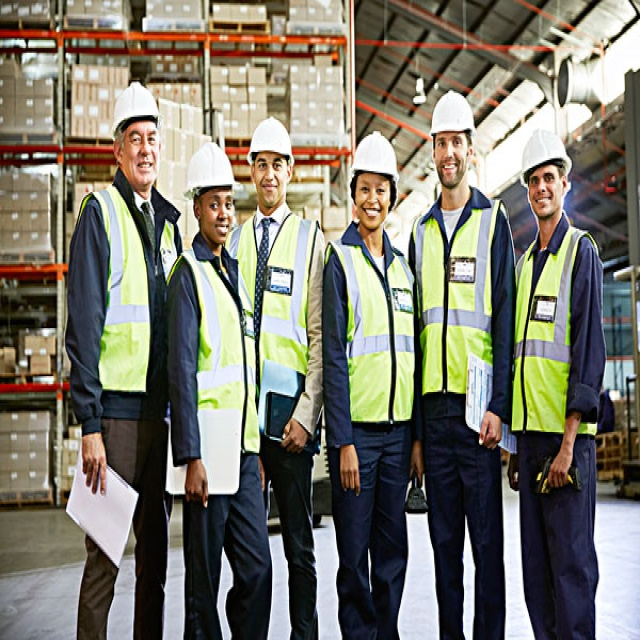Helmet: (99, 67, 175, 208), (170, 131, 249, 266), (227, 102, 315, 223), (331, 119, 415, 237), (418, 76, 488, 204), (507, 117, 583, 233)
Reflective vest: (70, 177, 182, 400), (512, 225, 611, 450), (413, 197, 515, 406), (319, 232, 421, 438), (171, 249, 263, 464), (230, 214, 326, 420)
